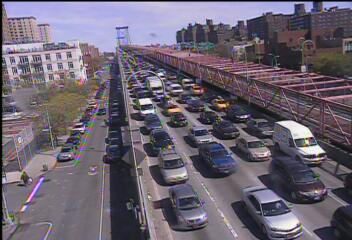neg: (320, 98, 348, 134), (225, 77, 244, 103), (37, 151, 49, 166), (332, 36, 340, 47)
pos: (16, 168, 30, 186)
